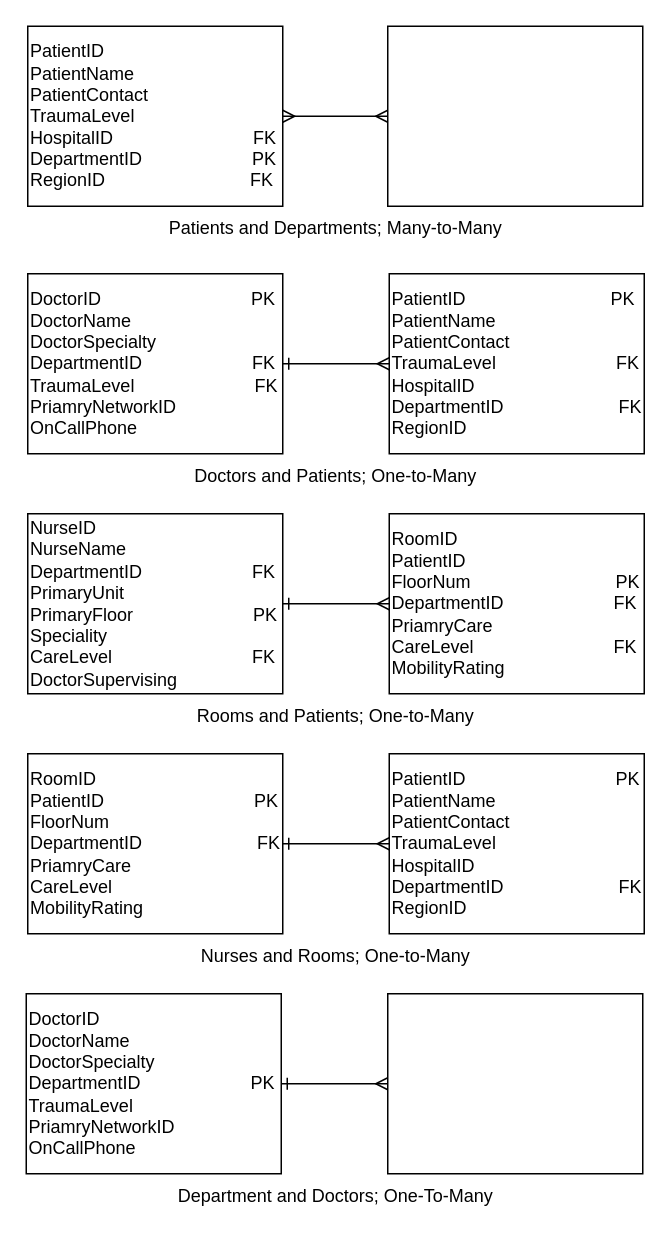
This 671x1245 diagram has some shape labels left out. Each missing label, with the centre of its shape:
DepartmentID PK PrimaryFunction NumStaff StaffID HospitalID FK RegionID FK: (x=514, y=115)
DepartmentID PK PrimaryFunction NumStaff StaffID HospitalID RegionID: (x=514, y=1083)
